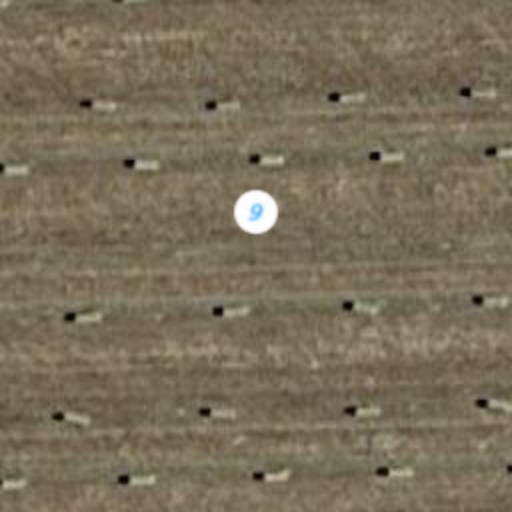circle: (228, 184, 284, 240)
